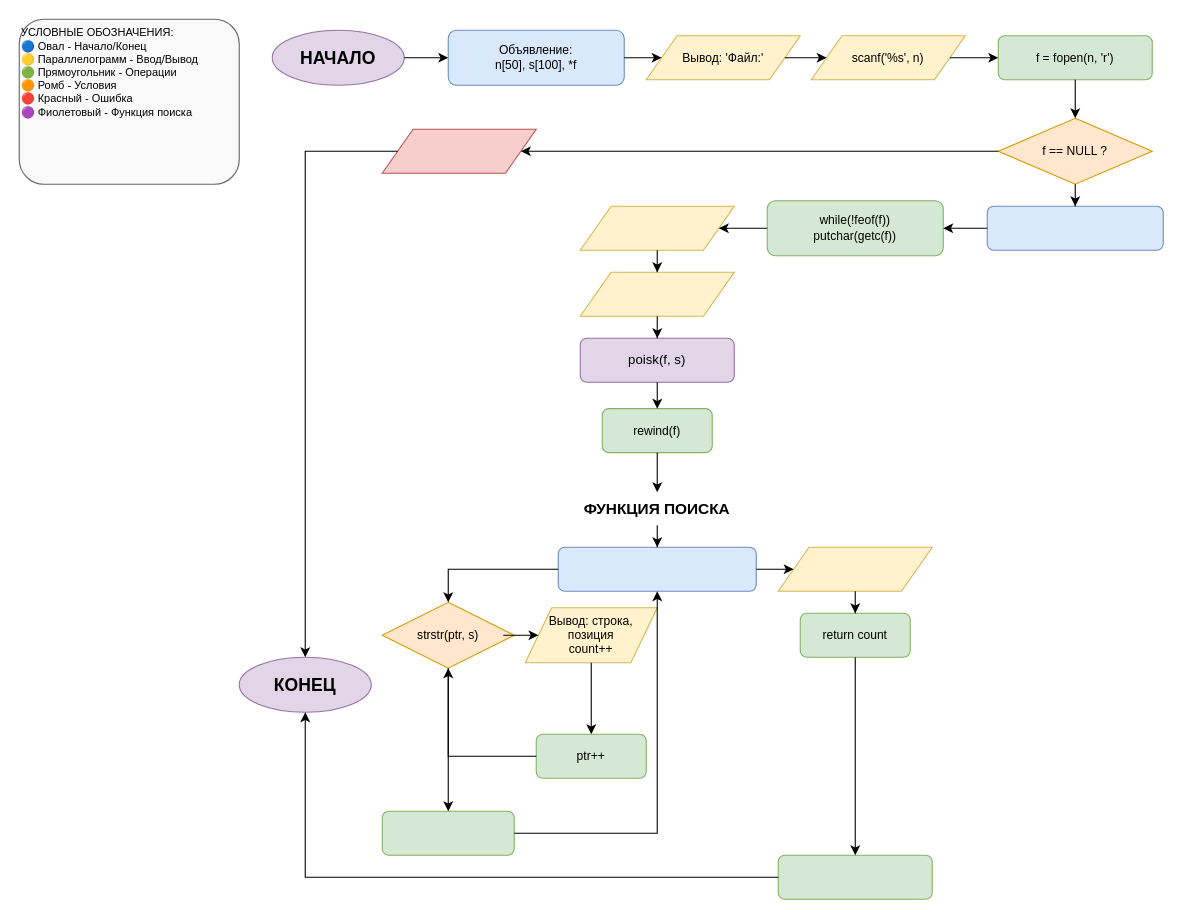
This 1183x919 diagram has some shape labels left out. Each missing label, with the centre of its shape:
fclose(f): (854,876)
scanf('%s', s): (656,293)
while fgets(buffer) != NULL: (656,568)
Вывод итога поиска: (854,568)
Вывод содержимого файла: (1074,227)
Вывод: 'Ошибка': (458,150)
Вывод: 'Подстрока:': (656,227)
Переход к след. строке: (447,832)
